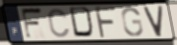C: (47, 8, 72, 40)
D: (68, 6, 97, 40)
F: (93, 5, 118, 40), (20, 6, 45, 41)
G: (120, 6, 144, 37)
V: (141, 5, 164, 38)
